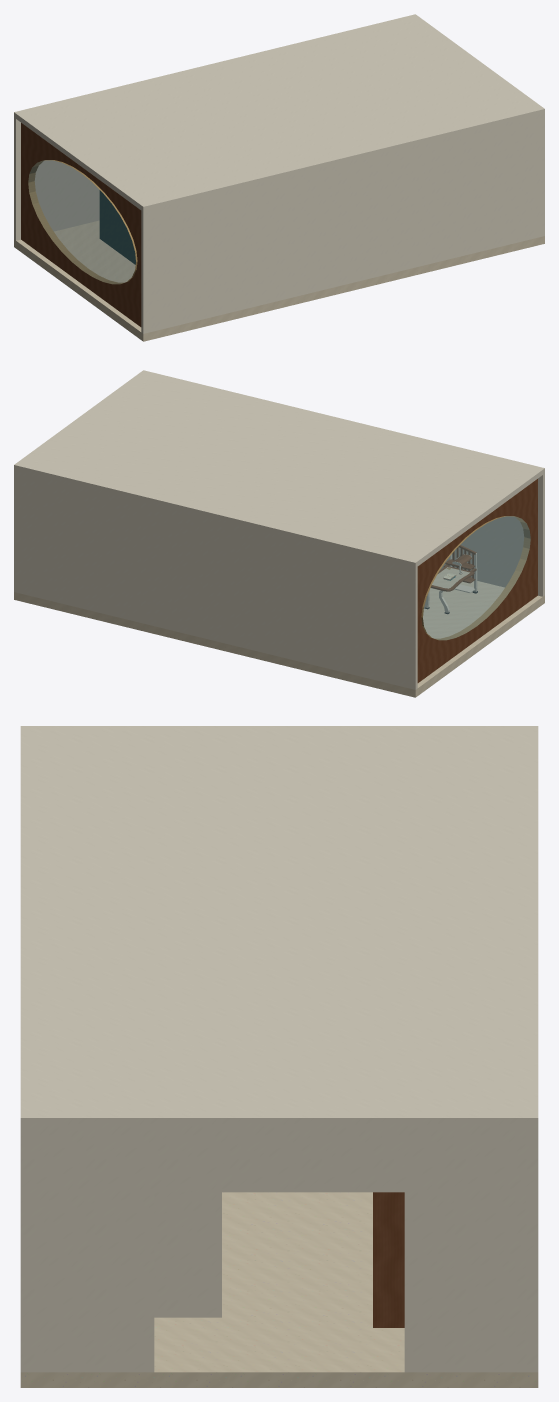
The model's file is QuietGroveSpecialty_135_r002.glb.
3 views of the same model, one above another, from view 1: azimuth 30°, elevation 25°; view 2: azimuth 150°, elevation 25°; view 3: azimuth 270°, elevation 25° (orthographic). The views are drawn at different scales.
Parts seen in each view (by area): view 1: QG135_Ceiling, QG135_SouthSide, QG135_OvalAtriumGlass, QG135_RoomFloor, QG135_OvalWindowReveal, QG135_NorthSide, QG135_OvalDepthReturn, QG135_Cocoon_RearLiner; view 2: QG135_Ceiling, QG135_NorthSide, QG135_OvalAtriumGlass, QG135_RoomFloor, QG135_OvalWindowReveal, QG135_SouthSide, QG135_OvalDepthReturn, QG135_QG135_LibraryStudyEdge__SINGLE_inset_stone_writing_sur; view 3: QG135_Ceiling, QG135_RoomFloor, QG135_EntryShoulderNorth, QG135_EntryShoulderSouth, QG135_EntryHeader, QG135_WashEntrySide, QG135_EntryPrivacyDogleg, QG135_NorthSide, QG135_SouthSide.
Part boxes in pixels (<box>): QG135_Ceiling: <box>14,14,544,211</box>; QG135_SouthSide: <box>141,114,544,333</box>; QG135_OvalAtriumGlass: <box>28,160,135,283</box>; QG135_RoomFloor: <box>14,220,544,341</box>; QG135_OvalWindowReveal: <box>21,123,141,326</box>; QG135_NorthSide: <box>14,117,99,240</box>; QG135_OvalDepthReturn: <box>28,160,137,284</box>; QG135_Cocoon_RearLiner: <box>101,191,135,264</box>; QG135_Ceiling: <box>14,370,544,567</box>; QG135_NorthSide: <box>14,470,417,689</box>; QG135_OvalAtriumGlass: <box>423,516,530,639</box>; QG135_RoomFloor: <box>14,581,544,697</box>; QG135_OvalWindowReveal: <box>417,479,537,682</box>; QG135_SouthSide: <box>440,473,544,596</box>; QG135_OvalDepthReturn: <box>421,516,530,640</box>; QG135_QG135_LibraryStudyEdge__SINGLE_inset_stone_writing_sur: <box>432,567,469,588</box>; QG135_Ceiling: <box>20,726,538,1128</box>; QG135_RoomFloor: <box>20,1192,538,1387</box>; QG135_EntryShoulderNorth: <box>404,1128,529,1372</box>; QG135_EntryShoulderSouth: <box>29,1128,154,1372</box>; QG135_EntryHeader: <box>150,1128,408,1192</box>; QG135_WashEntrySide: <box>154,1192,221,1317</box>; QG135_EntryPrivacyDogleg: <box>373,1192,404,1327</box>; QG135_NorthSide: <box>529,1128,538,1372</box>; QG135_SouthSide: <box>20,1128,29,1372</box>.
Size of the model in its own units: 12.9 by 4.14 by 7.2.
58 materials, 43 textured.
